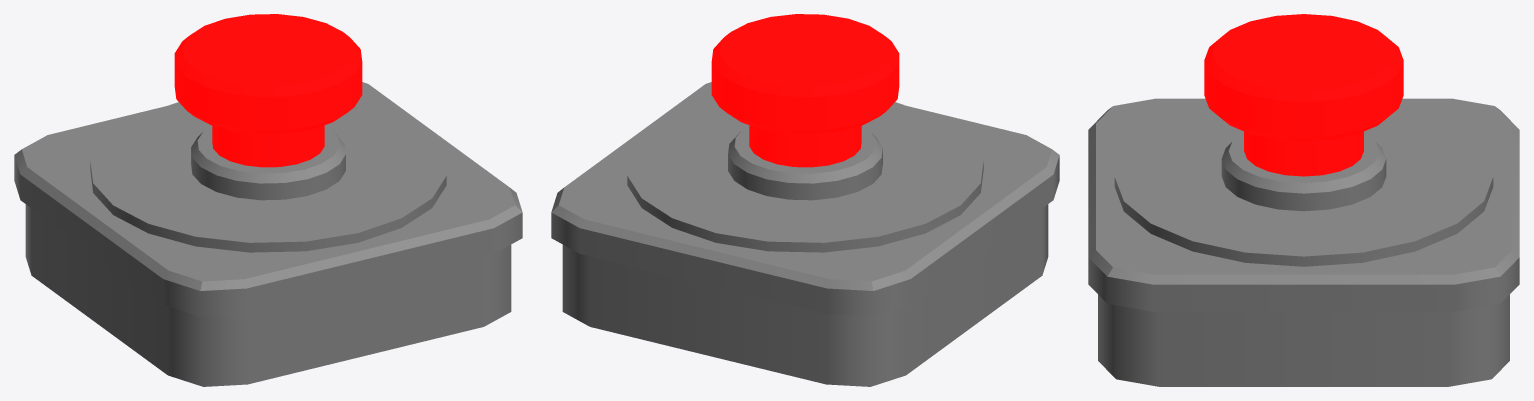
File: PH_ShutoffButton.fbx
3 renders of one model, left to right at view 1: azimuth 30°, elevation 25°; view 2: azimuth 150°, elevation 25°; view 3: azimuth 270°, elevation 25°, orthographic. The views are drawn at different scales.
Parts seen in each view (by area): view 1: Button_1, Button_2; view 2: Button_1, Button_2; view 3: Button_1, Button_2.
Boxes of the visible parts, x1,y1,x2,y2 form: Button_1: (14, 82, 522, 386); Button_2: (174, 14, 362, 167); Button_1: (551, 82, 1059, 386); Button_2: (711, 14, 899, 167); Button_1: (1088, 98, 1519, 386); Button_2: (1204, 14, 1403, 176).
Bounding box in the file's own units: 15.48 × 9.8 × 15.48.
